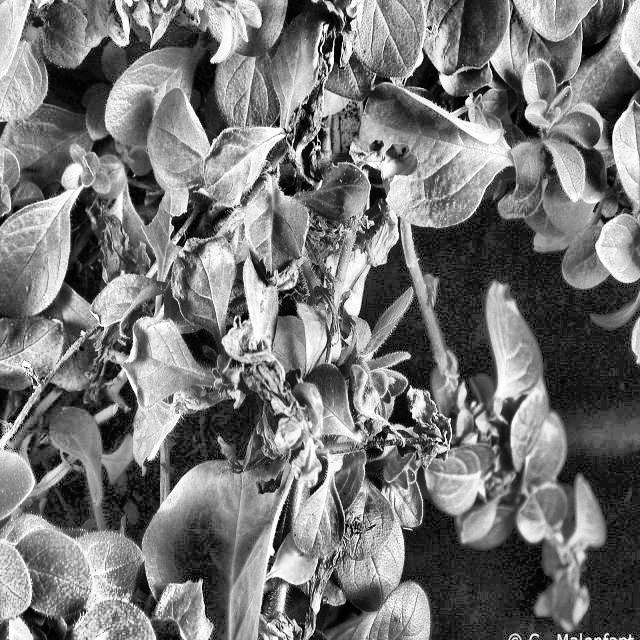plants: (182, 329, 318, 496), (268, 8, 360, 190), (294, 204, 419, 328), (45, 192, 163, 284), (294, 518, 382, 640), (357, 388, 457, 490), (68, 0, 232, 55)
